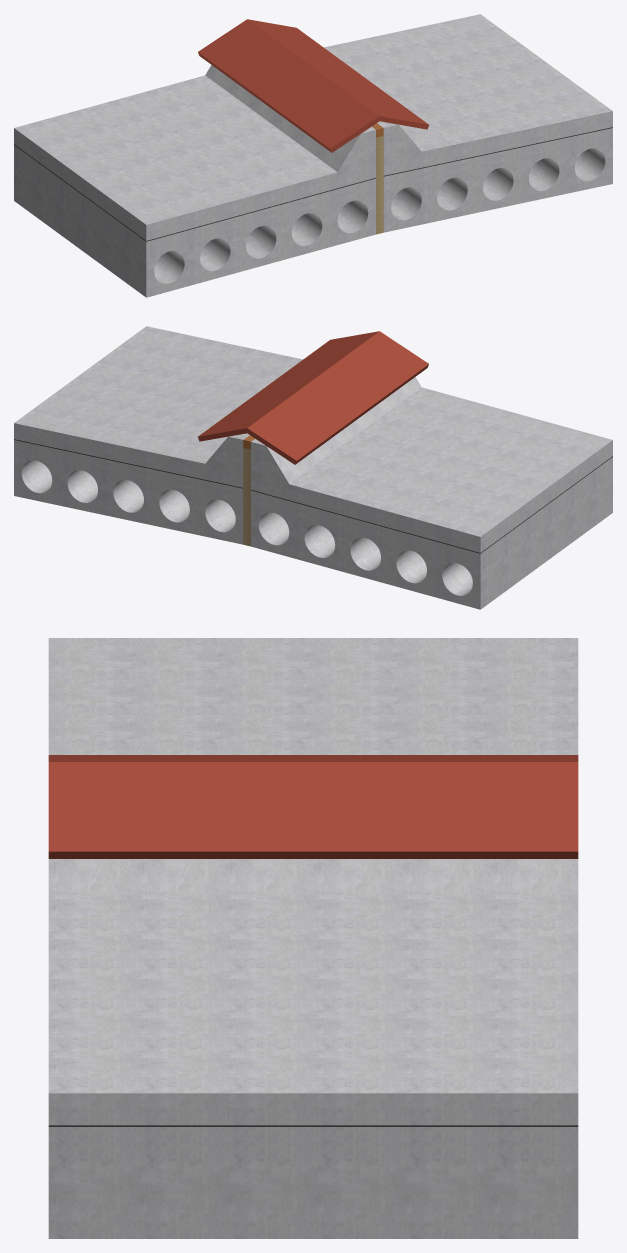
File: ridge-joint-02.glb
The picture shows the model from 3 angles, top to bottom: view 1: azimuth 30°, elevation 25°; view 2: azimuth 150°, elevation 25°; view 3: azimuth 270°, elevation 25°; orthographic projection. The views are drawn at different scales.
Parts seen in each view (by area): view 1: 细石混凝土刚性层, 空心屋面板, 折脊盖瓦, 水泥砂浆找平层, 纸筋灰隔离层, 沥青麻丝缝底填充; view 2: 细石混凝土刚性层, 空心屋面板, 折脊盖瓦, 水泥砂浆找平层, 纸筋灰隔离层, 沥青麻丝缝底填充; view 3: 细石混凝土刚性层, 折脊盖瓦, 空心屋面板, 水泥砂浆找平层, 纸筋灰隔离层.
Part boxes in pixels (left/top/right/bottom): 细石混凝土刚性层: left=14, top=14, right=612, bottom=240; 空心屋面板: left=14, top=136, right=612, bottom=297; 折脊盖瓦: left=198, top=19, right=428, bottom=152; 水泥砂浆找平层: left=14, top=128, right=612, bottom=249; 纸筋灰隔离层: left=14, top=127, right=612, bottom=241; 沥青麻丝缝底填充: left=376, top=136, right=383, bottom=234; 细石混凝土刚性层: left=14, top=326, right=612, bottom=552; 空心屋面板: left=14, top=448, right=612, bottom=609; 折脊盖瓦: left=198, top=331, right=428, bottom=464; 水泥砂浆找平层: left=14, top=440, right=612, bottom=561; 纸筋灰隔离层: left=14, top=439, right=612, bottom=553; 沥青麻丝缝底填充: left=243, top=448, right=250, bottom=546; 细石混凝土刚性层: left=48, top=638, right=578, bottom=1125; 折脊盖瓦: left=48, top=755, right=578, bottom=858; 空心屋面板: left=48, top=1143, right=578, bottom=1238; 水泥砂浆找平层: left=48, top=1127, right=578, bottom=1142; 纸筋灰隔离层: left=48, top=1125, right=578, bottom=1126.
Bounding box in the file's own units: 1.22 × 0.3117 × 0.6.
Materials: 7 (4 with a texture image).
